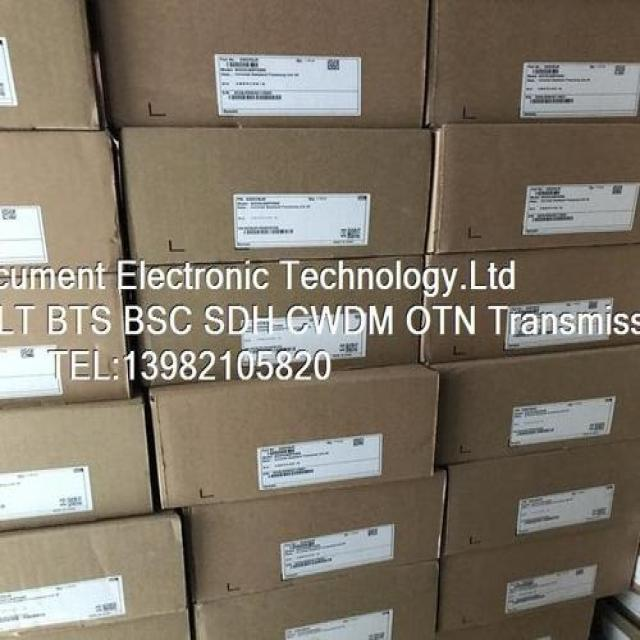box: (121, 130, 434, 268), (90, 4, 429, 130), (150, 364, 440, 511), (128, 256, 426, 391), (185, 454, 447, 606), (426, 119, 639, 254), (423, 1, 639, 123), (428, 342, 639, 466), (423, 246, 639, 364), (444, 436, 639, 559), (437, 521, 639, 637), (0, 513, 187, 635), (0, 397, 154, 533), (192, 559, 440, 638), (0, 131, 124, 281), (0, 273, 131, 408), (0, 1, 111, 130), (435, 599, 597, 638)
